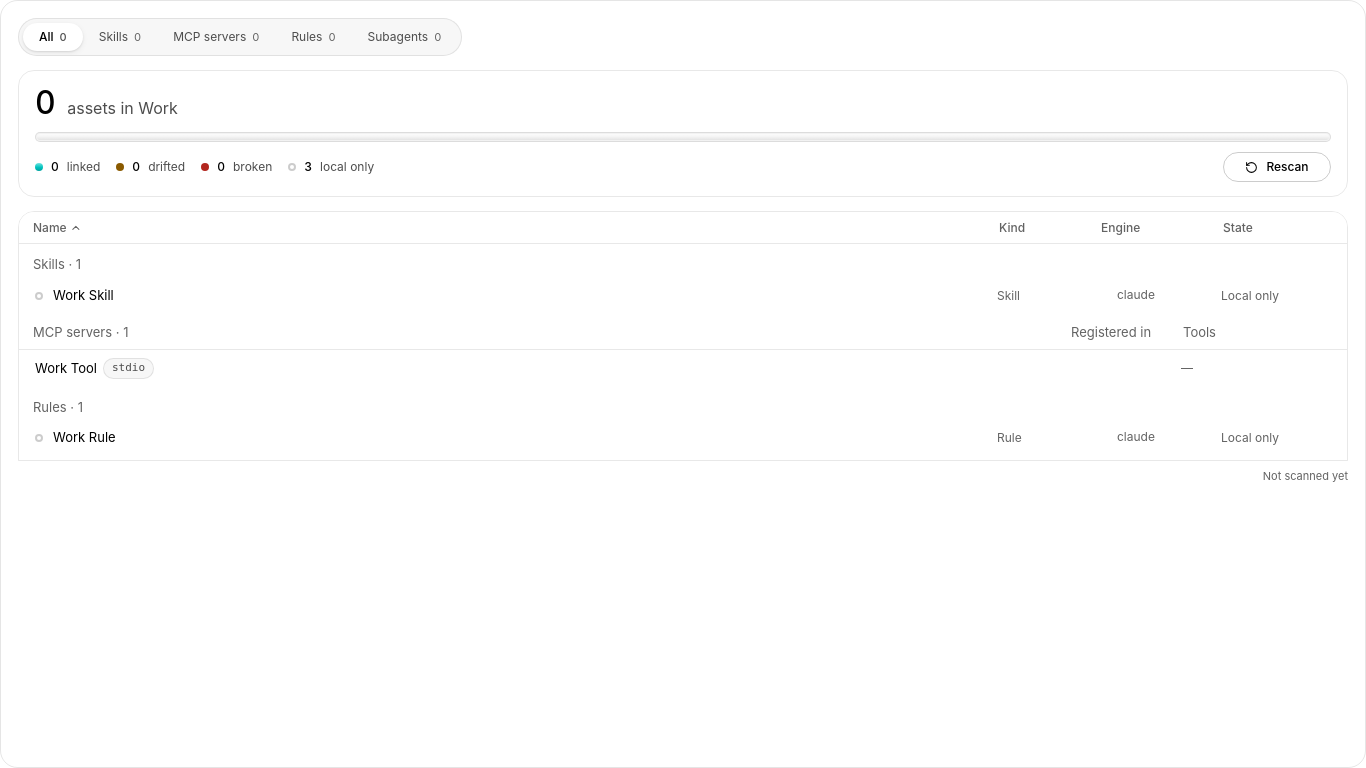
Test: RepoPane Category Filter Tiles Integration › filters repo assets when stat cards are clicked and restores view on toggle
Check: the text "Work Skill" is shown, box 53,286 -> 114,305
Check: the text "Work Tool" is shown, box 35,358 -> 97,378
What coordinates should you click on to do the following:
click the tab "Skills 0"
I would click on:
 (120, 37)
Its box is 83,23 -> 157,51.
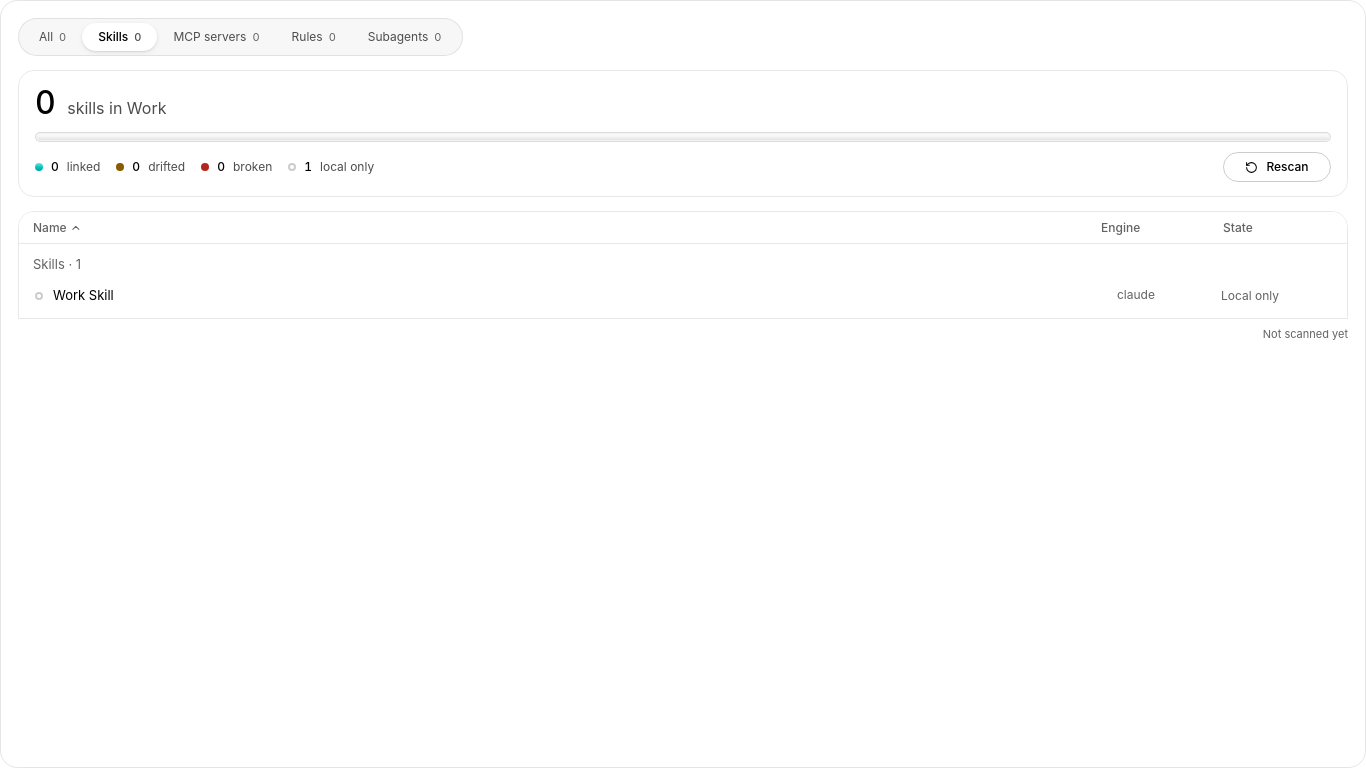
Check: the text "Work Skill" is shown, box 53,286 -> 114,305
Check: the text "Work Tool" is gone
Check: the text "Work Rule" is gone
Note: Click Skills card again to toggle filter off
What coordinates should you click on to do the following:
click the tab "Skills 0"
I would click on:
 (120, 37)
Its box is 82,23 -> 157,51.
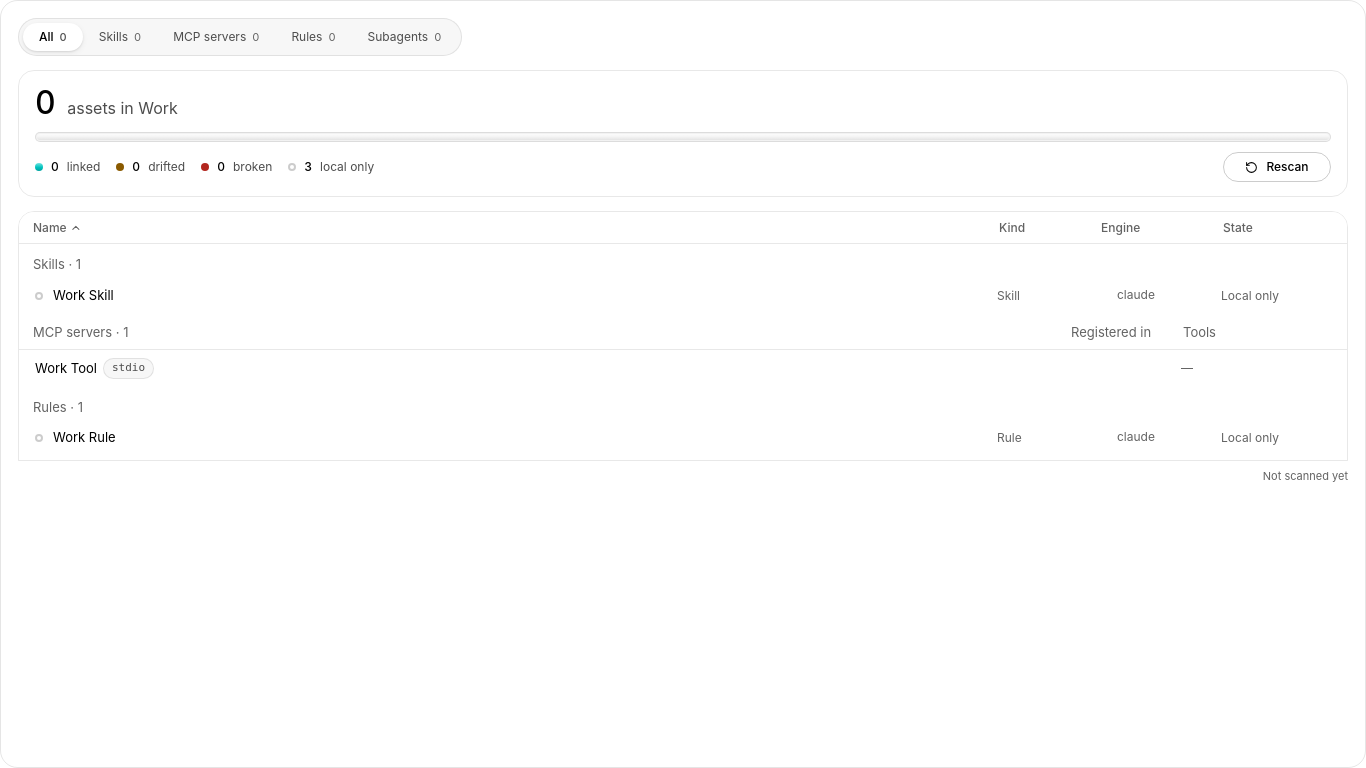
Check: the text "Work Skill" is shown, box 53,286 -> 114,305
Check: the text "Work Tool" is shown, box 35,358 -> 97,378
Check: the text "Work Rule" is shown, box 53,428 -> 116,448
